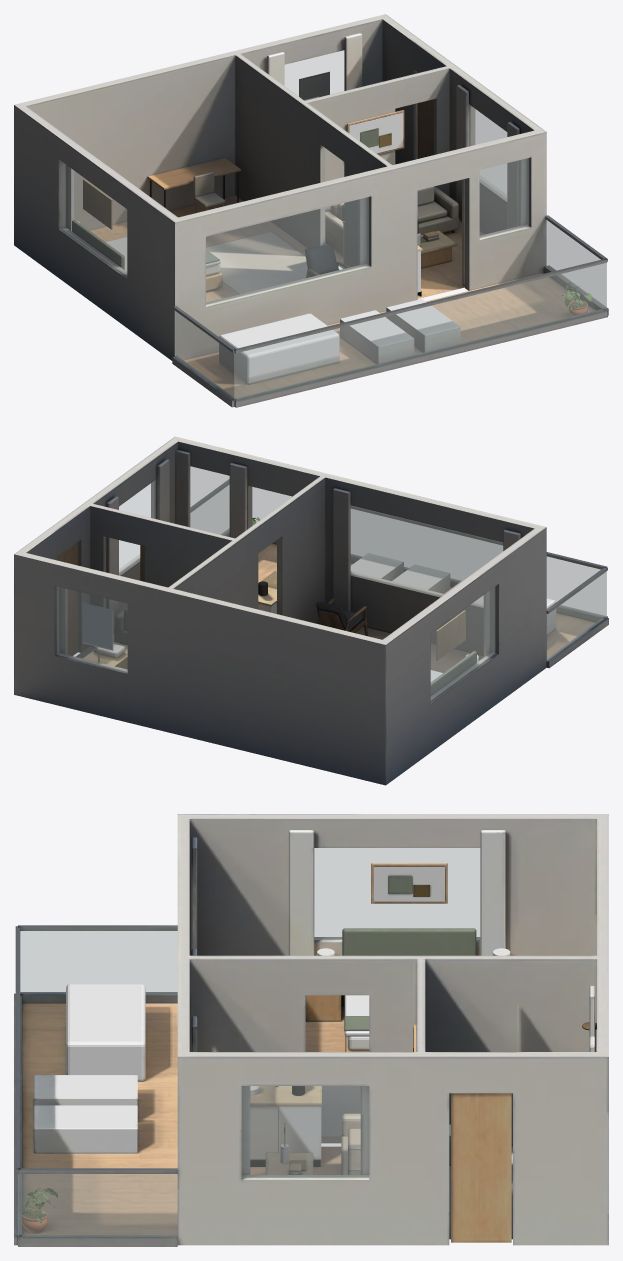
The model's file is laguna.glb.
The picture shows the model from 3 angles, top to bottom: view 1: azimuth 30°, elevation 25°; view 2: azimuth 150°, elevation 25°; view 3: azimuth 270°, elevation 25°; orthographic projection. The views are drawn at different scales.
Parts seen in each view (by area): view 1: horneado, Cube.020; view 2: horneado, Cube.020; view 3: horneado, Cube.020, potted_plant_02_pot.
Part boxes in pixels (x1,y1,x2,y2): horneado: (14,14,608,407); Cube.020: (62,50,606,400); horneado: (14,436,608,785); Cube.020: (57,466,606,699); horneado: (14,814,608,1246); Cube.020: (17,848,479,1236); potted_plant_02_pot: (22,1188,57,1233).
Bounding box in the file's own units: 7.3 × 2.6 × 7.45.
4 materials, 3 textured.
